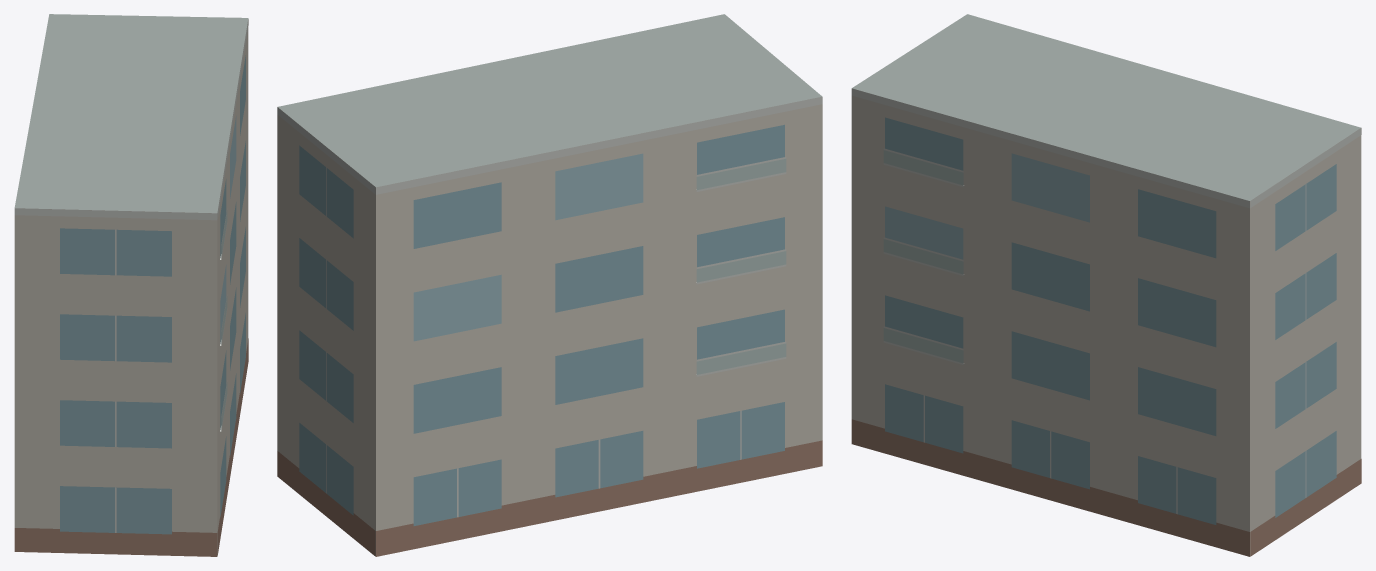
The model's file is survey-upis-33012868.glb.
The picture shows the model from 3 angles, left to right: view 1: azimuth 30°, elevation 25°; view 2: azimuth 150°, elevation 25°; view 3: azimuth 270°, elevation 25°; orthographic projection. The views are drawn at different scales.
Parts seen in each view (by area): view 1: survey-upis-33012868.tmp; view 2: survey-upis-33012868.tmp; view 3: survey-upis-33012868.tmp.
Part boxes in pixels (<box>): survey-upis-33012868.tmp: <box>14,14,248,556</box>; survey-upis-33012868.tmp: <box>277,14,822,556</box>; survey-upis-33012868.tmp: <box>851,14,1361,556</box>.
Bounding box in the file's own units: 13.43 × 11.9 × 15.46.
